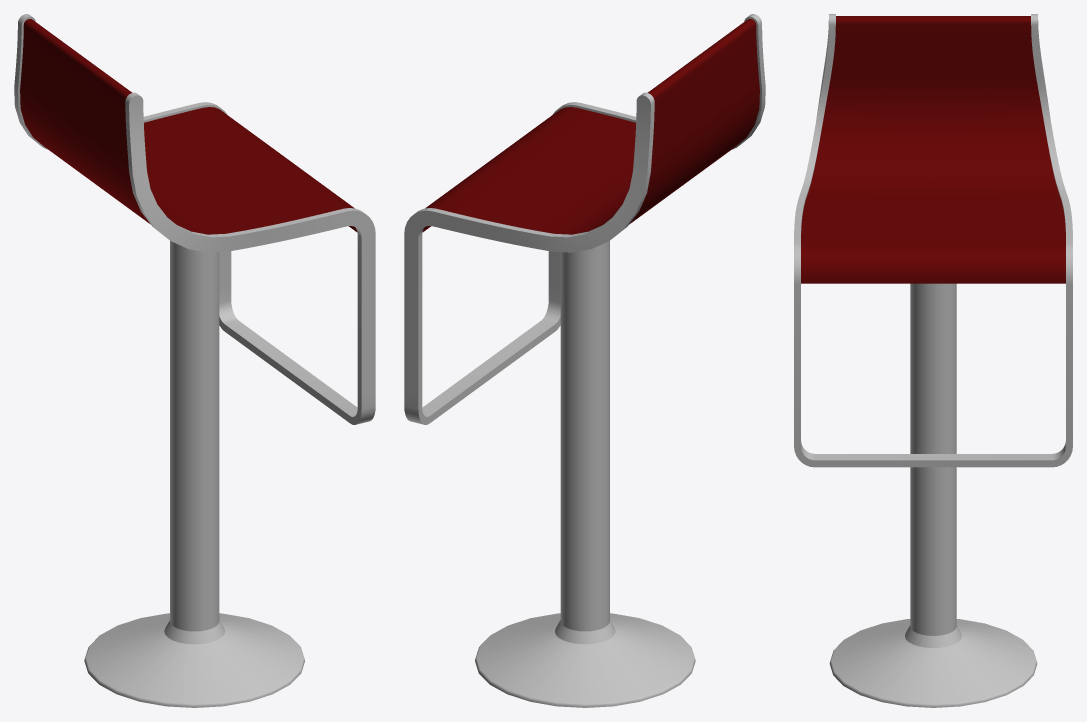
File: sgabello.obj
The picture shows the model from 3 angles, left to right: view 1: azimuth 30°, elevation 25°; view 2: azimuth 150°, elevation 25°; view 3: azimuth 270°, elevation 25°; orthographic projection. The views are drawn at different scales.
Visible parts, largest first — view 1: Line59_1, Line60_4, Line58_5, Line13_2, Line61_3; view 2: Line59_1, Line60_4, Line61_3, Line13_2, Line58_5; view 3: Line60_4, Line59_1, Line13_2, Line58_5, Line61_3.
Boxes of the visible parts, x1,y1,x2,y2 form: Line59_1: (84,240,304,707); Line60_4: (20,19,357,234); Line58_5: (125,92,375,394); Line13_2: (219,285,375,424); Line61_3: (14,14,231,287); Line59_1: (475,240,695,707); Line60_4: (422,19,759,234); Line61_3: (404,92,654,394); Line13_2: (404,285,560,424); Line58_5: (548,14,765,287); Line60_4: (801,16,1065,283); Line59_1: (829,283,1037,707); Line13_2: (794,432,1072,467); Line58_5: (794,14,835,432); Line61_3: (1031,14,1072,432).
Size of the model in its own units: 32 by 85 by 36.
